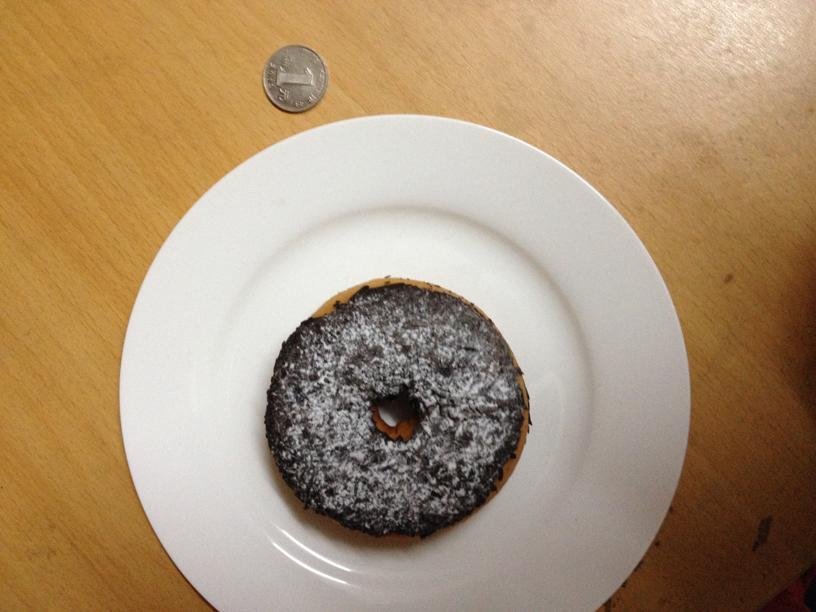coin: (262, 44, 326, 113)
doughnut: (261, 271, 526, 536)
